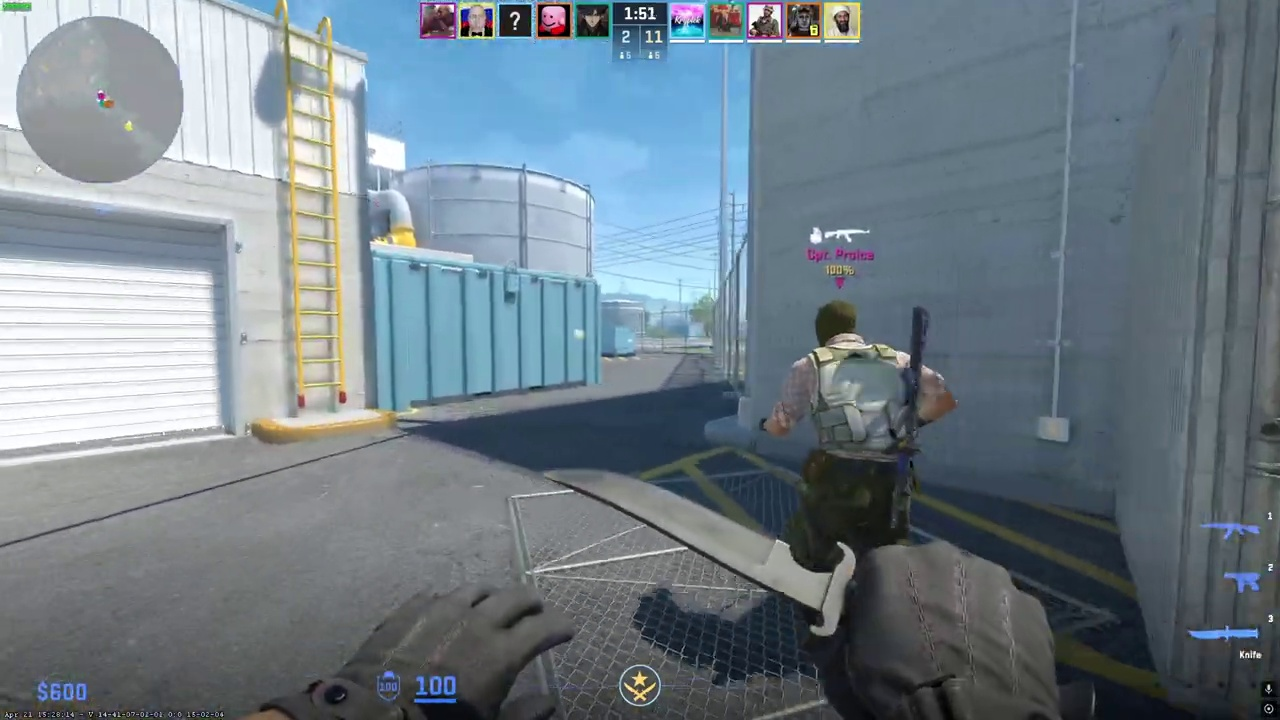Terrorist: (774, 298, 945, 571)
